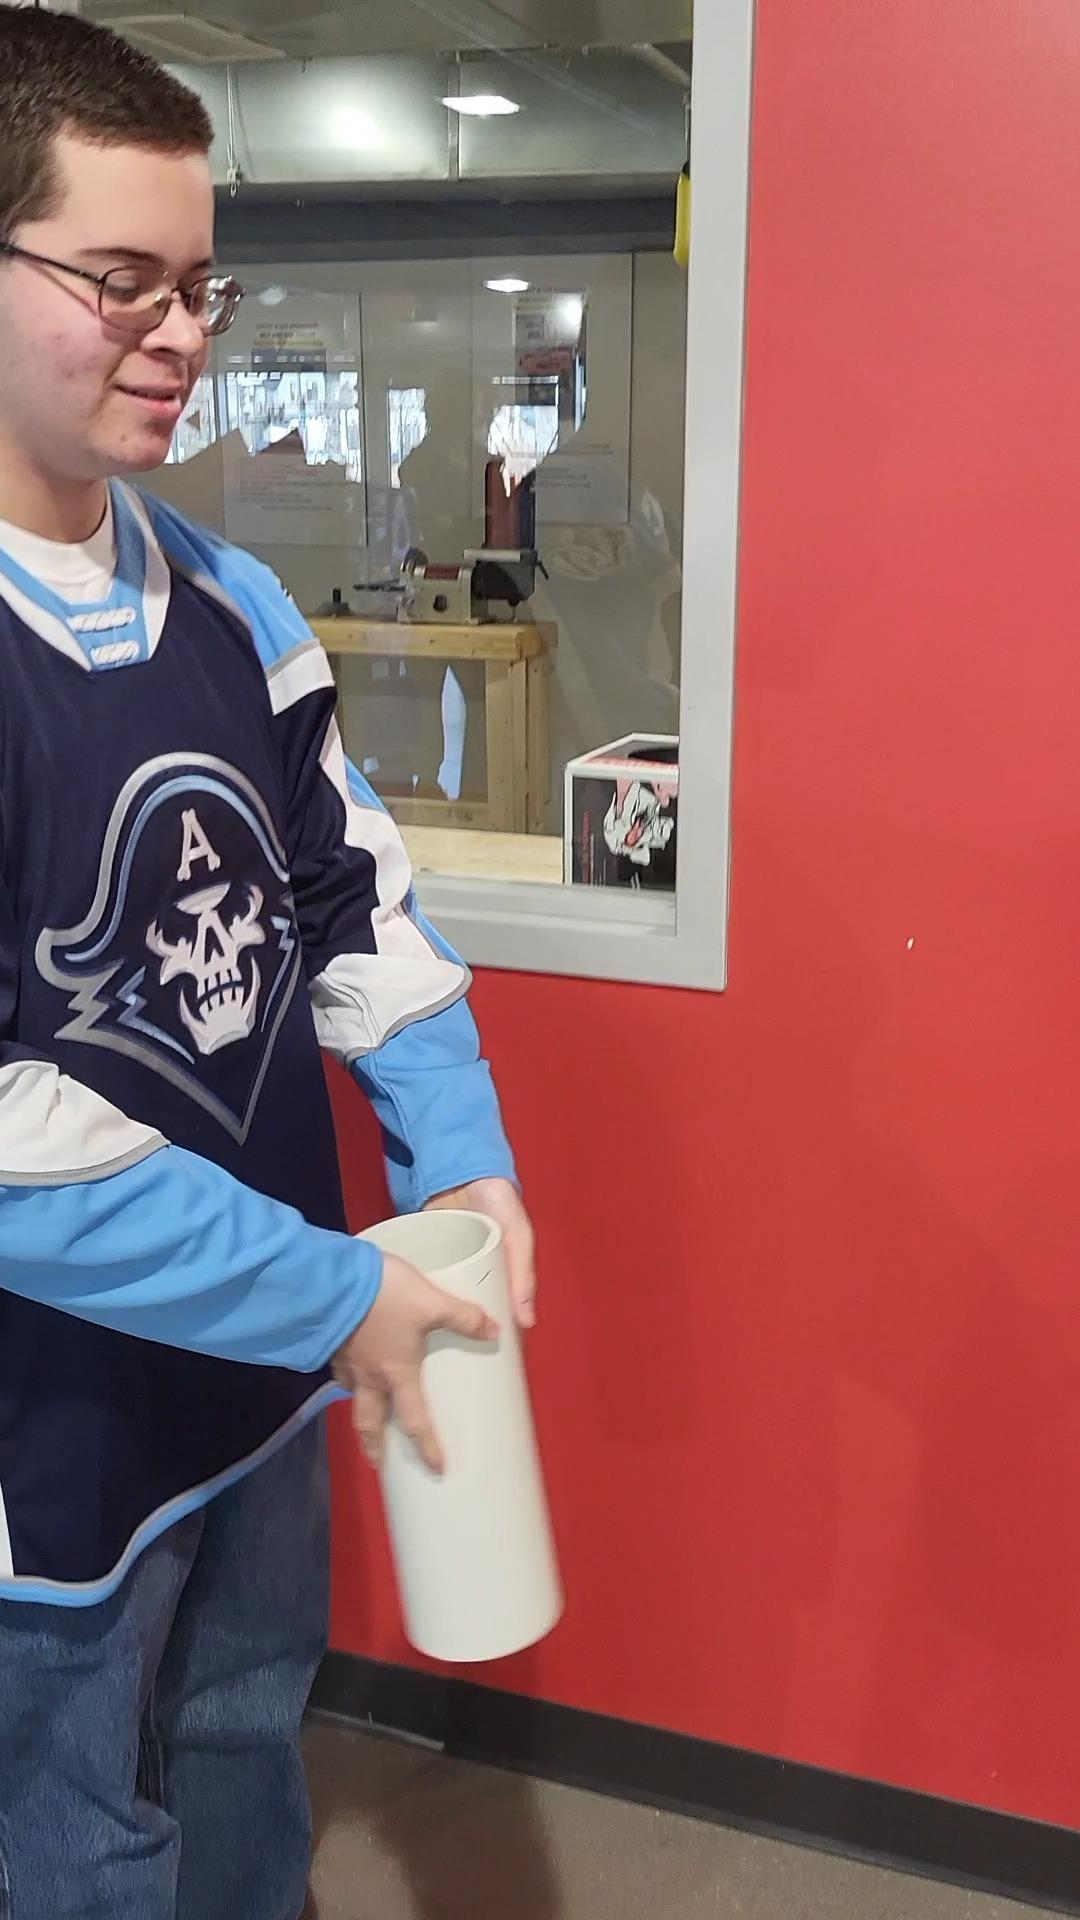coral: (340, 1207, 576, 1662)
